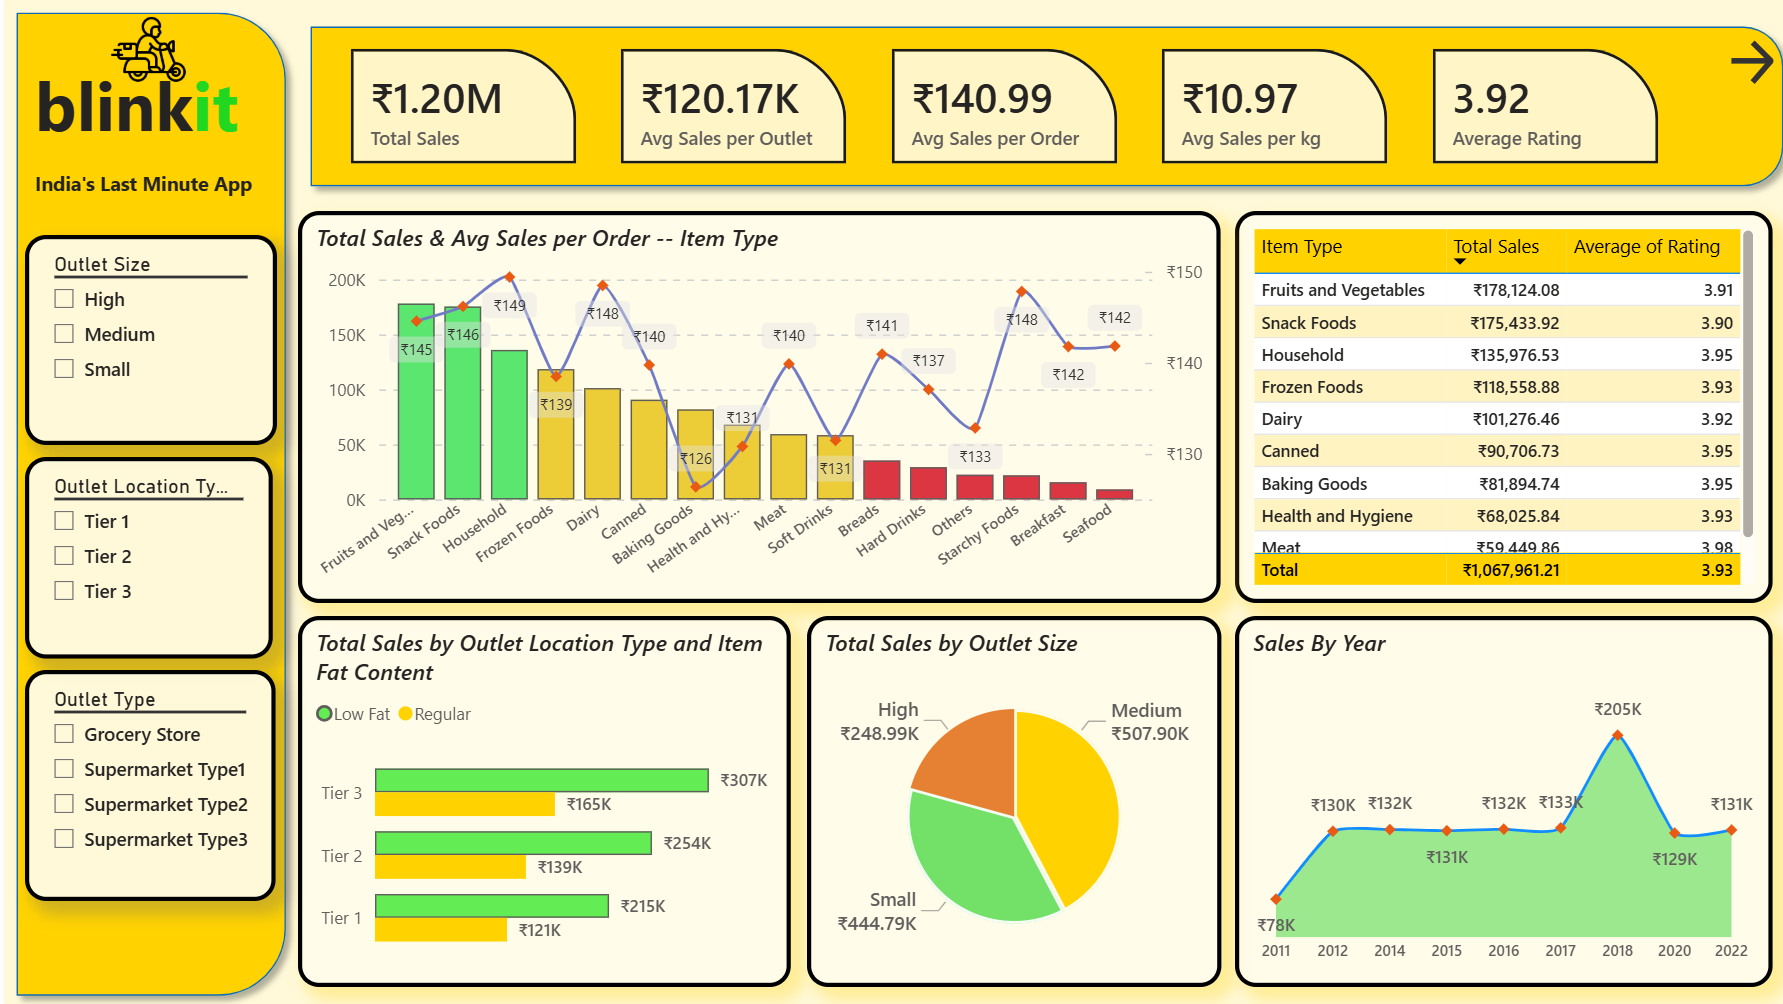

This screenshot's page, from the dashboard's own definition file:
{"tool":"powerbi","page":{"name":"Dashboard","canvas":[1280,720],"ordinal":0},"visuals":[{"type":"shape","box":[0,0,210.3,720.2],"z":0},{"type":"textbox","box":[17.1,36.7,178.5,79.5],"z":1000},{"type":"textbox","box":[17.1,116.2,177.3,34.2],"z":2000},{"type":"tableEx","fields":{"Values":["BlinkIT Grocery Data.Item Type","Measures_Table.Total Sales","Avg(BlinkIT Grocery Data.Rating)"]},"box":[879.2,150.4,384,280],"z":3000},{"type":"slicer","fields":{"Values":["BlinkIT Grocery Data.Outlet Size"]},"box":[14.7,167.5,179.8,150.4],"z":4000},{"type":"slicer","fields":{"Values":["BlinkIT Grocery Data.Outlet Location Type"]},"box":[14.9,326.7,177.3,144.3],"z":5000},{"type":"lineStackedColumnComboChart","title":"Total Sales & Avg Sales per Order -- Item Type","fields":{"Category":["BlinkIT Grocery Data.Item Type"],"Y":["Sum(BlinkIT Grocery Data.Sales)"],"Y2":["Measures_Table.Avg_Sales_per_order"]},"box":[210.3,150.4,659.1,280],"z":6000},{"type":"clusteredBarChart","fields":{"Category":["Outlet Location.Outlet Location Type"],"Y":["Measures_Table.Total Sales"],"Series":["BlinkIT Grocery Data.Item Fat Content"]},"box":[210.3,440.2,352.2,265.4],"z":7000},{"type":"pieChart","fields":{"Category":["BlinkIT Grocery Data.Outlet Size"],"Y":["Measures_Table.Total Sales"]},"box":[573.5,440.2,295.9,265.4],"z":8000},{"type":"slicer","fields":{"Values":["BlinkIT Grocery Data.Outlet Type"]},"box":[14.9,478.4,178.5,165.1],"z":9000},{"type":"shape","box":[210.3,9.8,1070,132.1],"z":10000},{"type":"cardVisual","fields":{"Data":["Measures_Table.Total Sales"]},"box":[230.6,17.6,195.7,116.2],"z":11000},{"type":"cardVisual","fields":{"Data":["Measures_Table.Average Sales per Outlet"]},"box":[423.8,17.6,195.7,116.2],"z":12000},{"type":"cardVisual","fields":{"Data":["Measures_Table.Avg_Sales_per_order"]},"box":[617,17.6,195.7,116.2],"z":13000},{"type":"cardVisual","fields":{"Data":["Measures_Table.Average Rating"]},"box":[1003.5,17.6,195.7,116.2],"z":14000},{"type":"cardVisual","fields":{"Data":["Measures_Table.Sales per kg"]},"box":[810.2,17.6,195.7,116.2],"z":15000},{"type":"image","box":[68.5,8.6,69.7,56.3],"z":16000},{"type":"areaChart","title":"Sales By Year","fields":{"Y":["Measures_Table.Total Sales"],"Category":["BlinkIT Grocery Data.Outlet Establishment Year"]},"box":[879.2,440.2,384,265.4],"z":17000},{"type":"actionButton","box":[1227.7,24.5,52.6,40.4],"z":18000}]}

Visuals, with their boxes in screenshot pixels (x1, y1, x2, y2), scaled from the page's 1280x720 canvas onto the 1783x1004 screenshot:
shape: bbox=[0, 0, 293, 1003]
textbox: bbox=[24, 51, 272, 162]
textbox: bbox=[24, 162, 271, 210]
tableEx - BlinkIT Grocery Data.Item Type x Measures_Table.Total Sales: bbox=[1225, 210, 1760, 600]
slicer - BlinkIT Grocery Data.Outlet Size: bbox=[20, 234, 271, 443]
slicer - BlinkIT Grocery Data.Outlet Location Type: bbox=[21, 456, 268, 657]
"Total Sales & Avg Sales per Order -- Item Type" lineStackedColumnComboChart: bbox=[293, 210, 1211, 600]
clusteredBarChart - Outlet Location.Outlet Location Type x Measures_Table.Total Sales: bbox=[293, 614, 784, 984]
pieChart - BlinkIT Grocery Data.Outlet Size x Measures_Table.Total Sales: bbox=[799, 614, 1211, 984]
slicer - BlinkIT Grocery Data.Outlet Type: bbox=[21, 667, 269, 897]
shape: bbox=[293, 14, 1782, 198]
cardVisual - Measures_Table.Total Sales: bbox=[321, 25, 594, 187]
cardVisual - Measures_Table.Average Sales per Outlet: bbox=[590, 25, 863, 187]
cardVisual - Measures_Table.Avg_Sales_per_order: bbox=[859, 25, 1132, 187]
cardVisual - Measures_Table.Average Rating: bbox=[1398, 25, 1670, 187]
cardVisual - Measures_Table.Sales per kg: bbox=[1129, 25, 1401, 187]
image: bbox=[95, 12, 193, 90]
"Sales By Year" areaChart: bbox=[1225, 614, 1760, 984]
actionButton: bbox=[1710, 34, 1782, 90]
